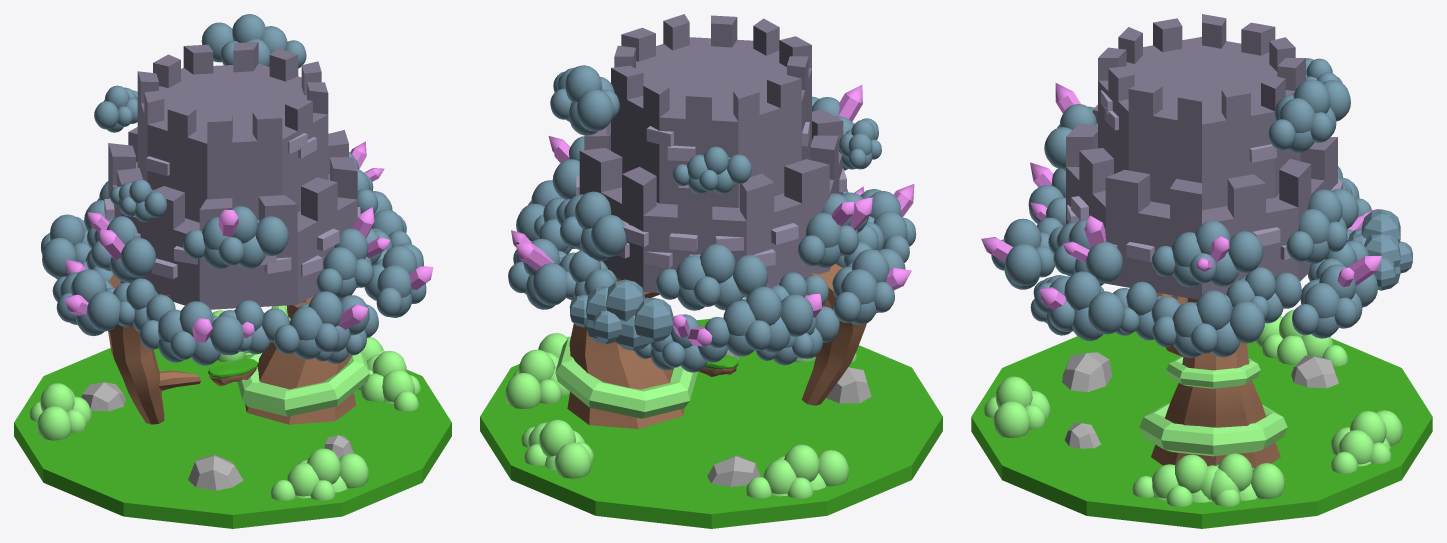
File: stage1_preview.fbx
3 renders of one model, left to right at view 1: azimuth 30°, elevation 25°; view 2: azimuth 150°, elevation 25°; view 3: azimuth 270°, elevation 25°, orthographic. The views are drawn at different scales.
Visible parts, largest first — view 1: nurbsCircle2; view 2: nurbsCircle2; view 3: nurbsCircle2.
Part boxes in pixels (left/top/right/bottom): nurbsCircle2: left=14, top=14, right=451, bottom=528; nurbsCircle2: left=480, top=14, right=942, bottom=528; nurbsCircle2: left=971, top=14, right=1432, bottom=528.
Size of the model in its own units: 22.82 by 21.04 by 22.82.
